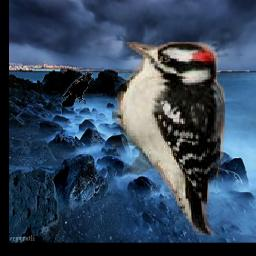Crow: (61, 72, 93, 108)
Woodpecker: (113, 43, 226, 236)
